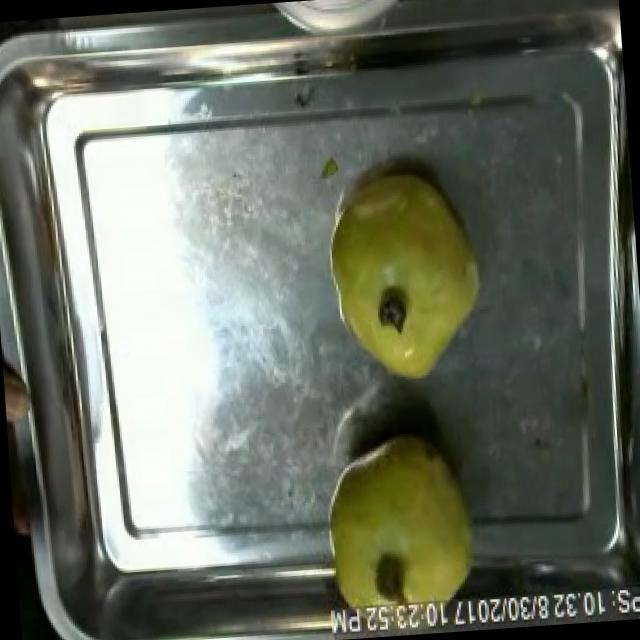fruit: (316, 157, 498, 394), (310, 424, 489, 633), (2, 346, 40, 454)
